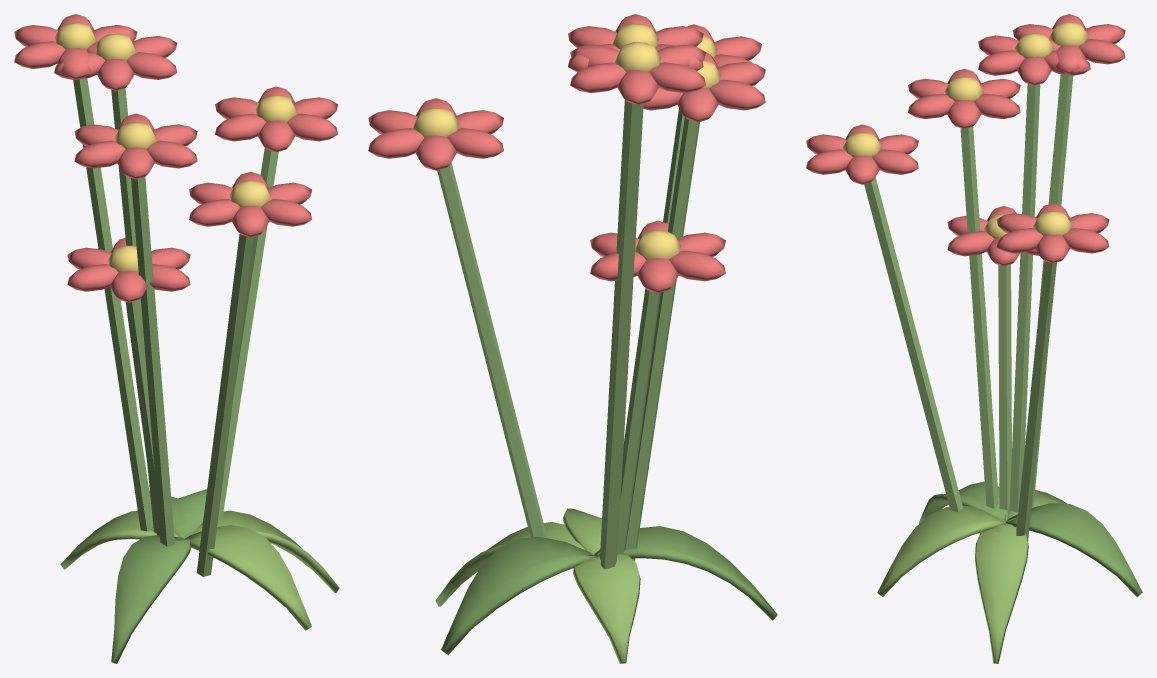
The model's file is Flowers_Red.gltf.
3 views of the same model, side by side, from view 1: azimuth 30°, elevation 25°; view 2: azimuth 150°, elevation 25°; view 3: azimuth 270°, elevation 25° (orthographic). The views are drawn at different scales.
Parts seen in each view (by area): view 1: Flowers_Red; view 2: Flowers_Red; view 3: Flowers_Red.
Boxes of the visible parts, x1,y1,x2,y2 form: Flowers_Red: [14, 14, 339, 663]; Flowers_Red: [368, 14, 777, 663]; Flowers_Red: [806, 14, 1142, 663].
Size of the model in its own units: 0.6649 by 1.19 by 0.6719.
